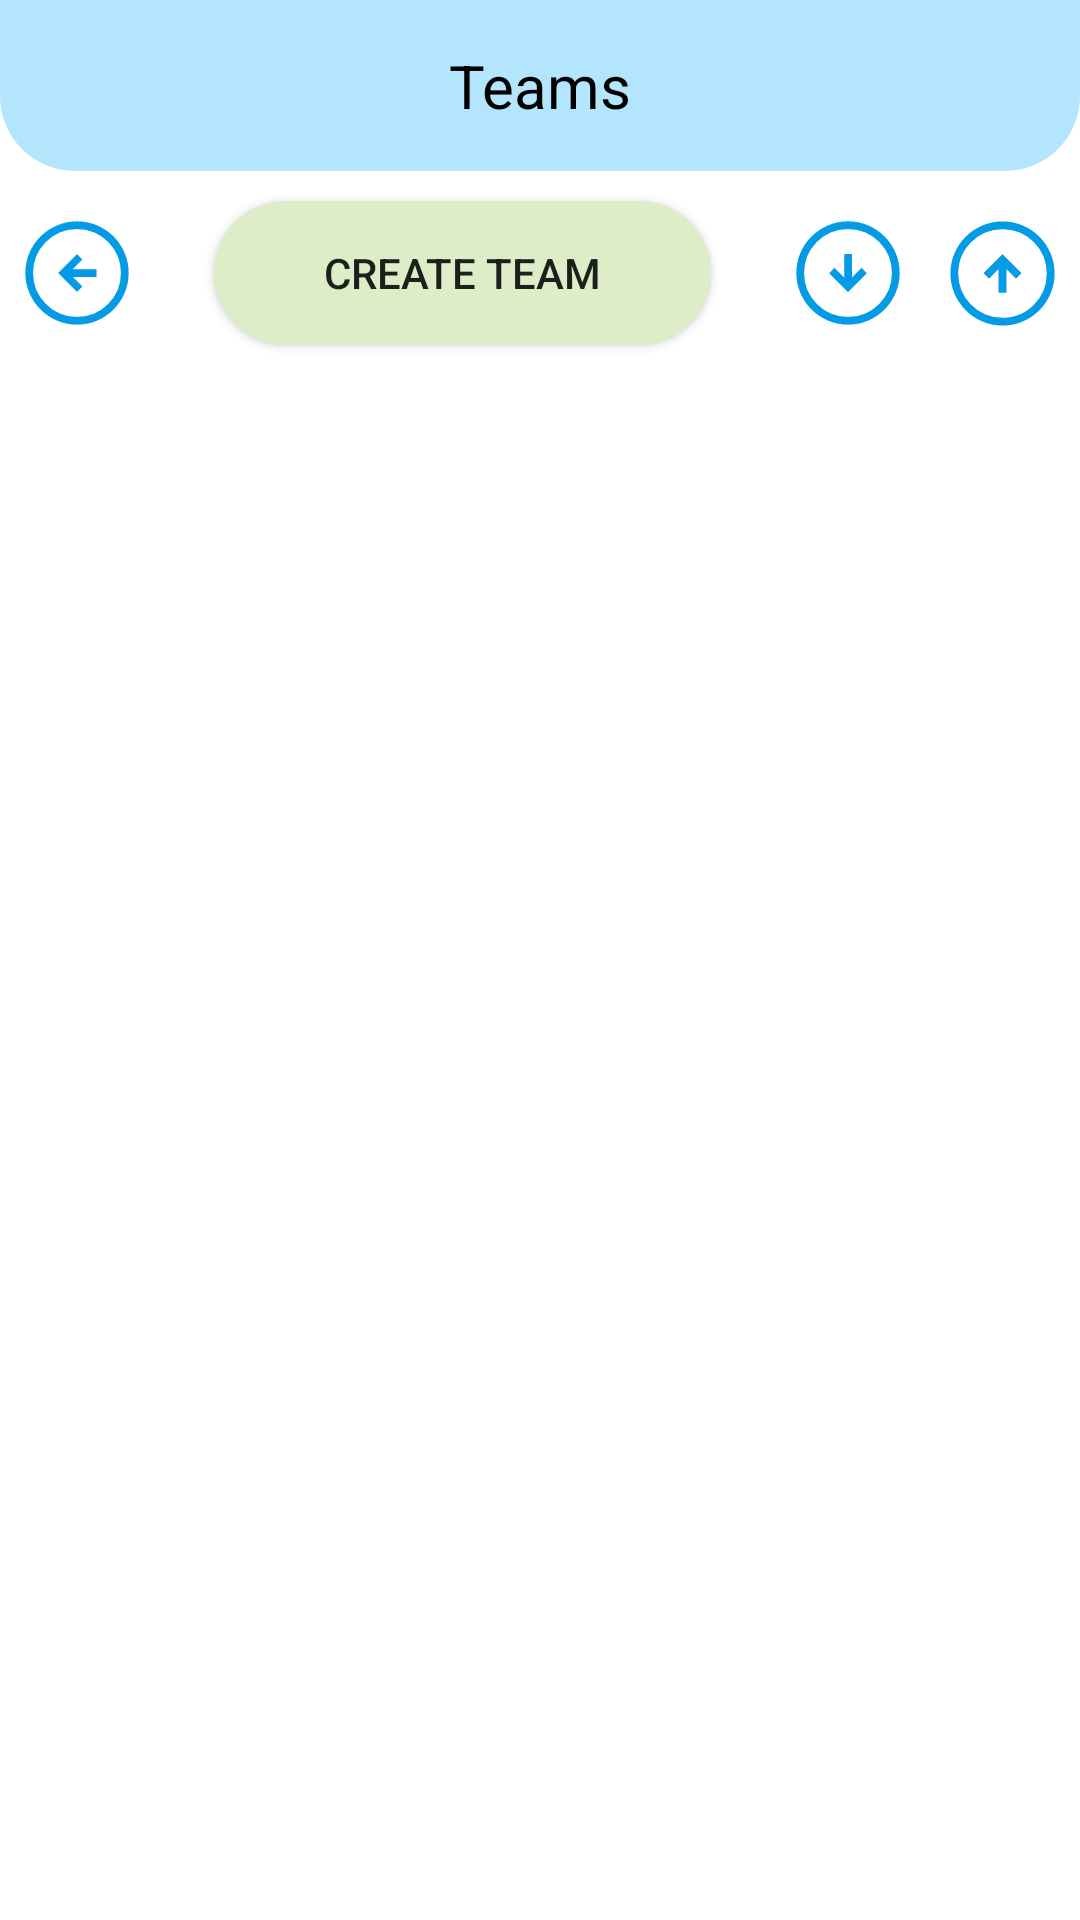

Named icons in this screenshot (1080w x 1920h) and their centers, point (x, y):
arrow circle down: point (848, 273)
arrow circle left: point (77, 273)
arrow circle up: point (1002, 273)
